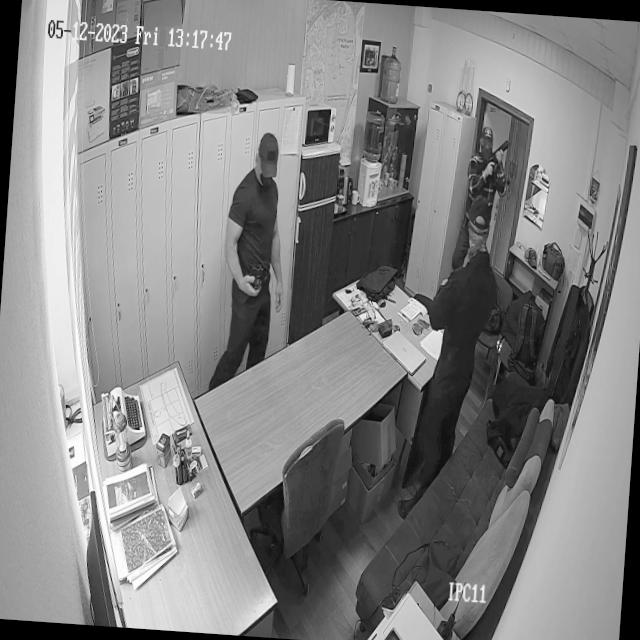gun: (486, 136, 510, 180)
person: (395, 189, 504, 527), (206, 129, 296, 397)
person with a gun: (450, 124, 512, 274)
